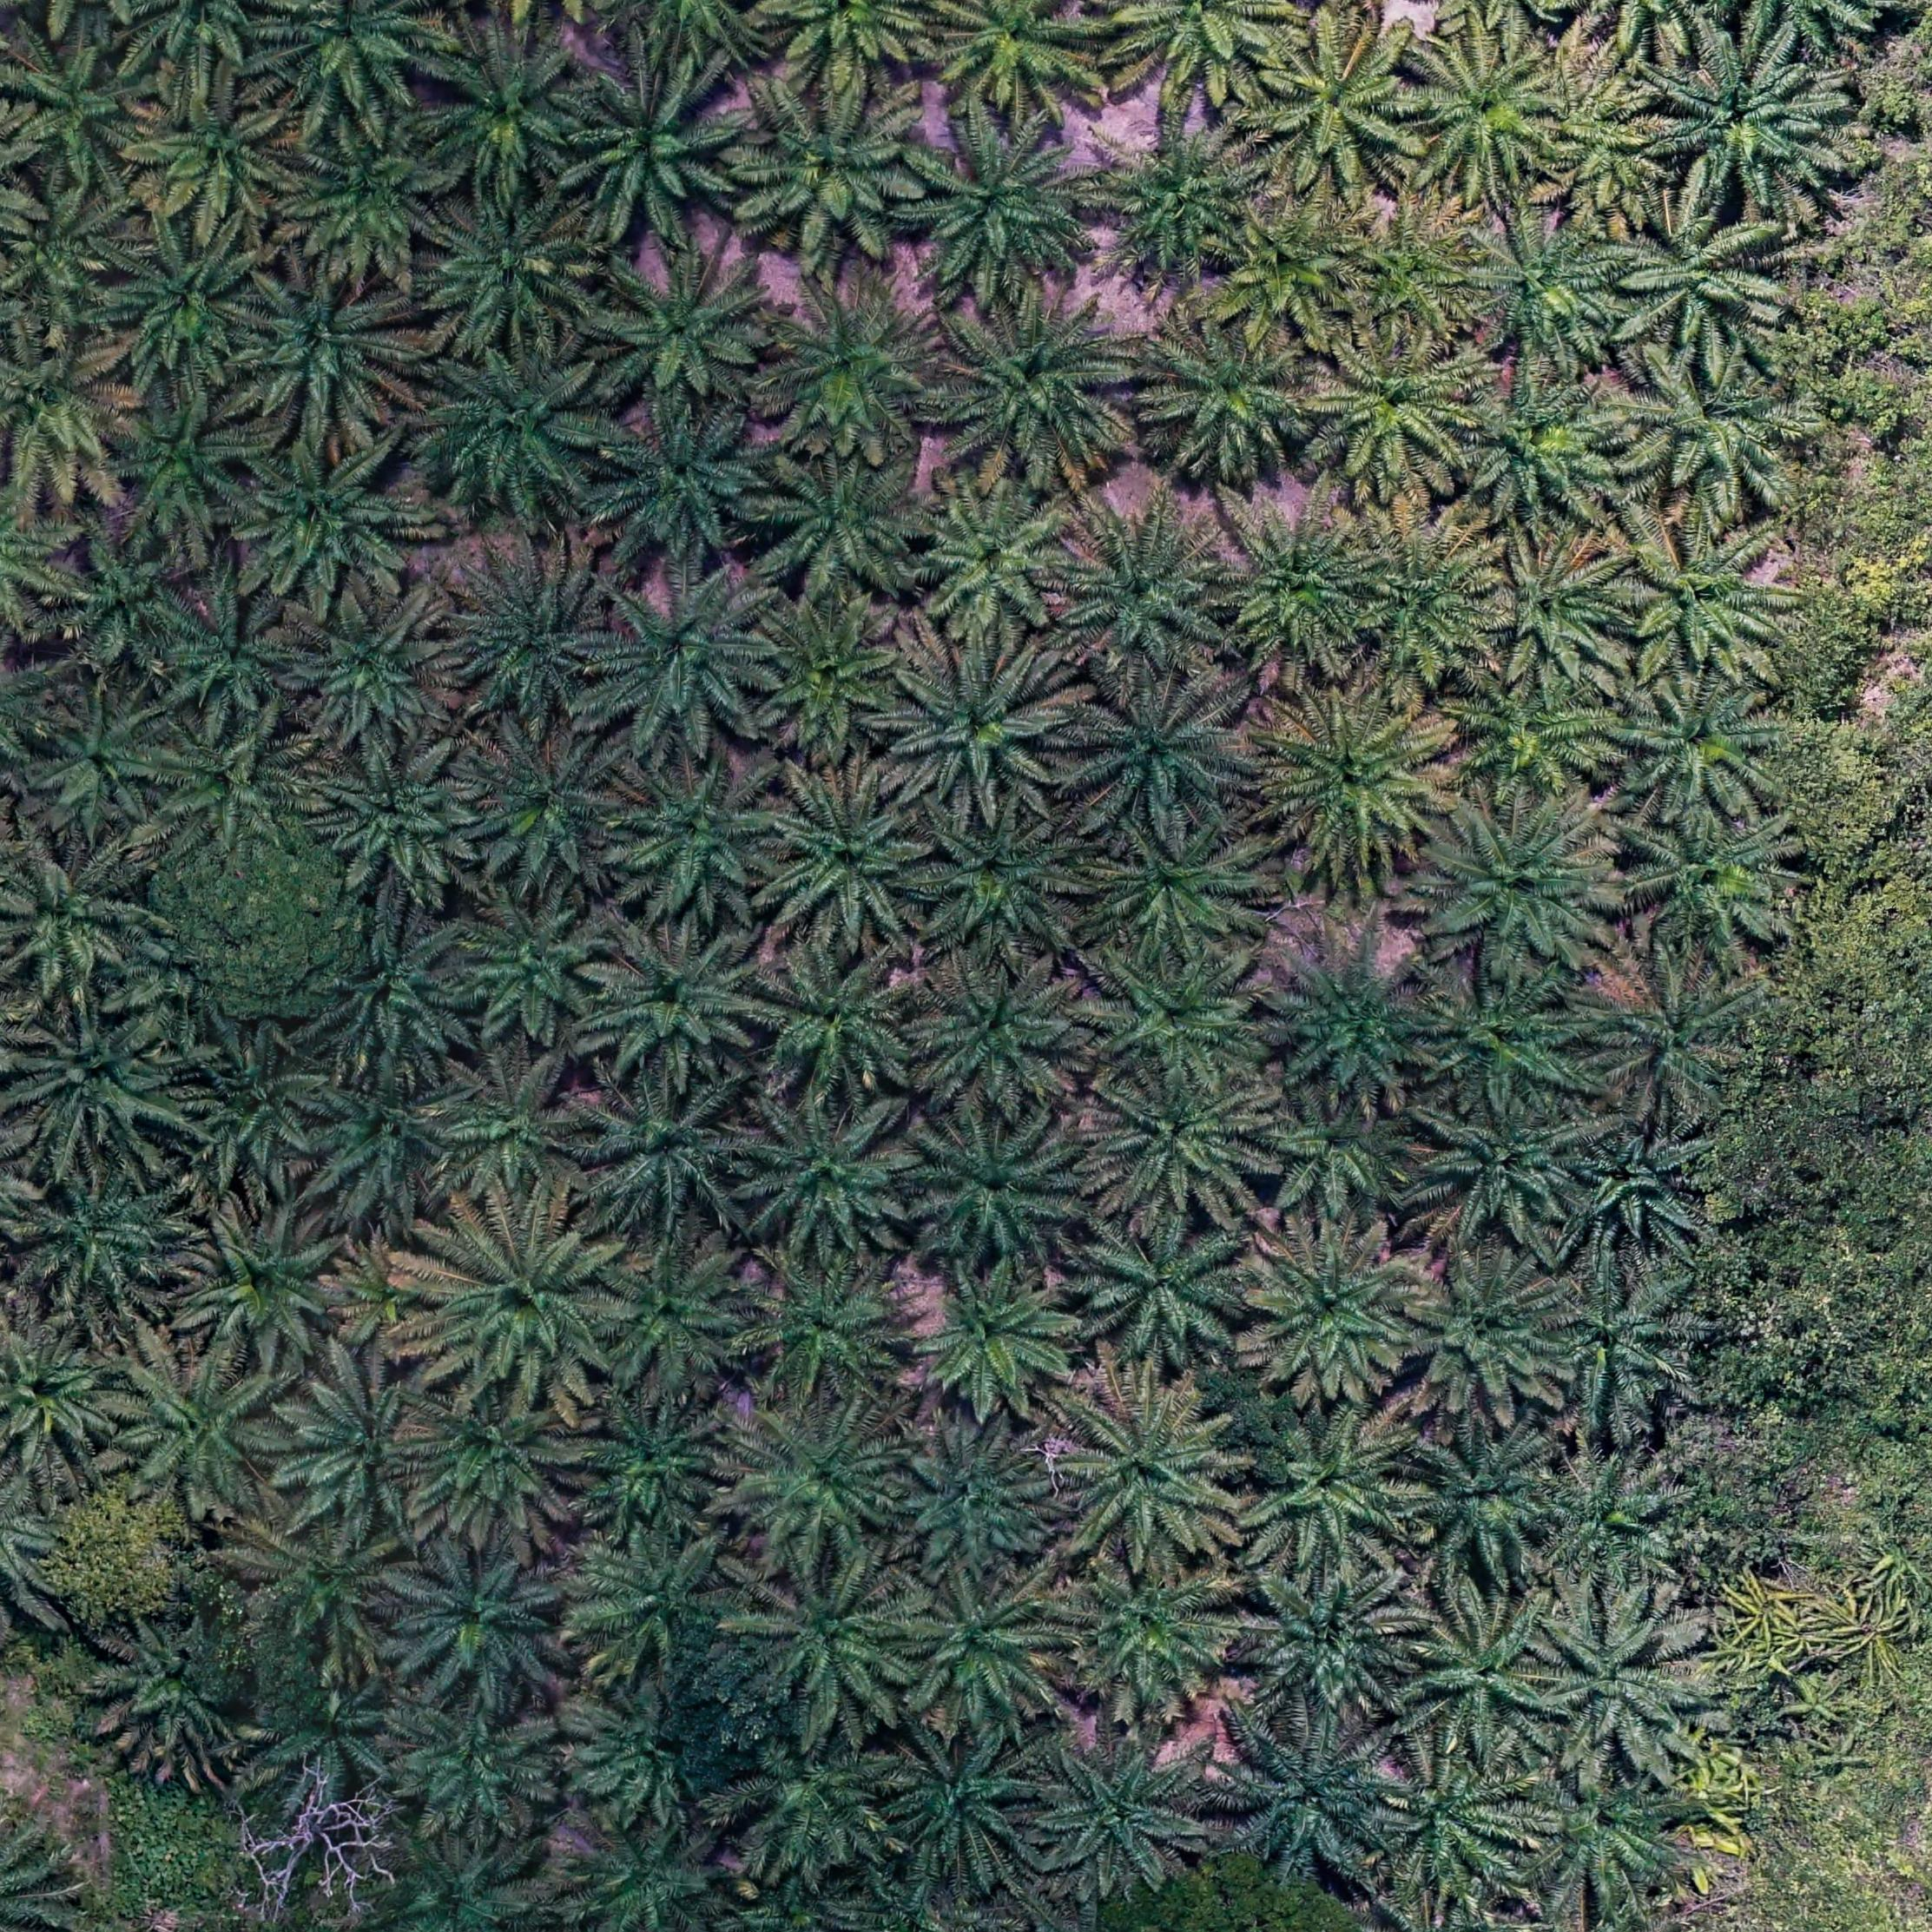palmtree: (1596, 322, 1817, 536), (931, 278, 1146, 476), (724, 69, 936, 260), (552, 51, 755, 244), (421, 1201, 625, 1392), (893, 113, 1100, 301), (1053, 1378, 1251, 1571), (579, 564, 780, 752), (1256, 685, 1460, 870), (757, 267, 954, 458), (410, 338, 616, 520), (1419, 791, 1621, 970), (1049, 490, 1238, 679), (172, 1191, 366, 1375), (580, 239, 780, 418), (1638, 32, 1840, 205), (414, 16, 605, 198), (386, 1532, 582, 1709), (1132, 315, 1330, 490), (577, 913, 775, 1088), (754, 766, 939, 952), (1081, 108, 1272, 288), (1246, 1219, 1433, 1401), (731, 1088, 925, 1263), (1261, 931, 1449, 1111), (235, 432, 425, 610), (586, 403, 780, 577), (895, 1102, 1092, 1274), (722, 1396, 915, 1569), (1511, 1757, 1707, 1927), (1079, 1063, 1277, 1231), (1249, 18, 1430, 202), (232, 258, 419, 435), (1023, 1725, 1214, 1898), (881, 640, 1074, 812), (106, 1341, 297, 1513), (1212, 1707, 1405, 1877), (418, 184, 603, 357), (1238, 1407, 1426, 1578), (607, 750, 796, 920), (1063, 674, 1261, 835), (570, 1069, 757, 1238), (9, 996, 196, 1166), (442, 547, 619, 724), (272, 1350, 448, 1529), (99, 216, 280, 389), (458, 724, 635, 899), (1077, 941, 1272, 1100), (1300, 324, 1483, 494), (897, 1260, 1083, 1426), (902, 471, 1081, 642), (409, 1384, 594, 1548), (1074, 1208, 1263, 1369), (906, 794, 1088, 961), (906, 955, 1090, 1120), (272, 115, 451, 283), (281, 587, 460, 754), (883, 1415, 1063, 1580), (1060, 1557, 1249, 1713), (101, 379, 274, 548), (1398, 30, 1573, 198), (308, 909, 485, 1076), (1614, 522, 1792, 686), (126, 71, 306, 234), (745, 1557, 927, 1718), (1237, 1559, 1419, 1720), (379, 1681, 564, 1838), (587, 1233, 763, 1399), (750, 448, 934, 605), (740, 1254, 924, 1412), (12, 1161, 196, 1318), (1396, 1594, 1568, 1762), (1210, 494, 1382, 662), (232, 1511, 412, 1670), (1614, 193, 1787, 357), (1346, 511, 1511, 685), (1396, 1258, 1571, 1421), (895, 1566, 1072, 1727), (559, 1668, 740, 1826), (747, 596, 916, 763), (315, 741, 490, 902), (876, 1720, 1049, 1881), (1449, 366, 1622, 527), (1417, 1088, 1599, 1240), (1415, 970, 1598, 1122), (566, 1527, 747, 1679), (1532, 1598, 1700, 1760), (750, 947, 927, 1100), (1476, 536, 1642, 699), (1401, 1417, 1569, 1578), (734, 1718, 904, 1875), (1086, 812, 1269, 957), (561, 1391, 734, 1543), (97, 1612, 264, 1769), (432, 1047, 602, 1201), (449, 890, 621, 1042), (147, 709, 320, 860), (170, 1028, 334, 1185), (1610, 678, 1783, 826), (308, 1063, 469, 1223), (5, 27, 163, 189), (1619, 809, 1798, 952), (918, 0, 1120, 126), (1205, 198, 1369, 352), (1456, 212, 1622, 364), (150, 577, 315, 727), (1254, 1088, 1431, 1228), (1594, 964, 1752, 1118), (1440, 665, 1614, 803), (28, 681, 184, 833), (0, 326, 136, 499), (255, 0, 442, 126), (1376, 1748, 1536, 1895), (260, 1654, 402, 1817), (548, 1812, 738, 1932), (1332, 205, 1490, 349), (44, 531, 200, 674), (1541, 1274, 1695, 1417), (1095, 0, 1295, 106), (0, 851, 142, 1000), (0, 170, 140, 318), (1534, 64, 1672, 214), (0, 1311, 127, 1474), (359, 1829, 557, 1932), (1539, 1453, 1684, 1583), (1566, 1120, 1709, 1251)
